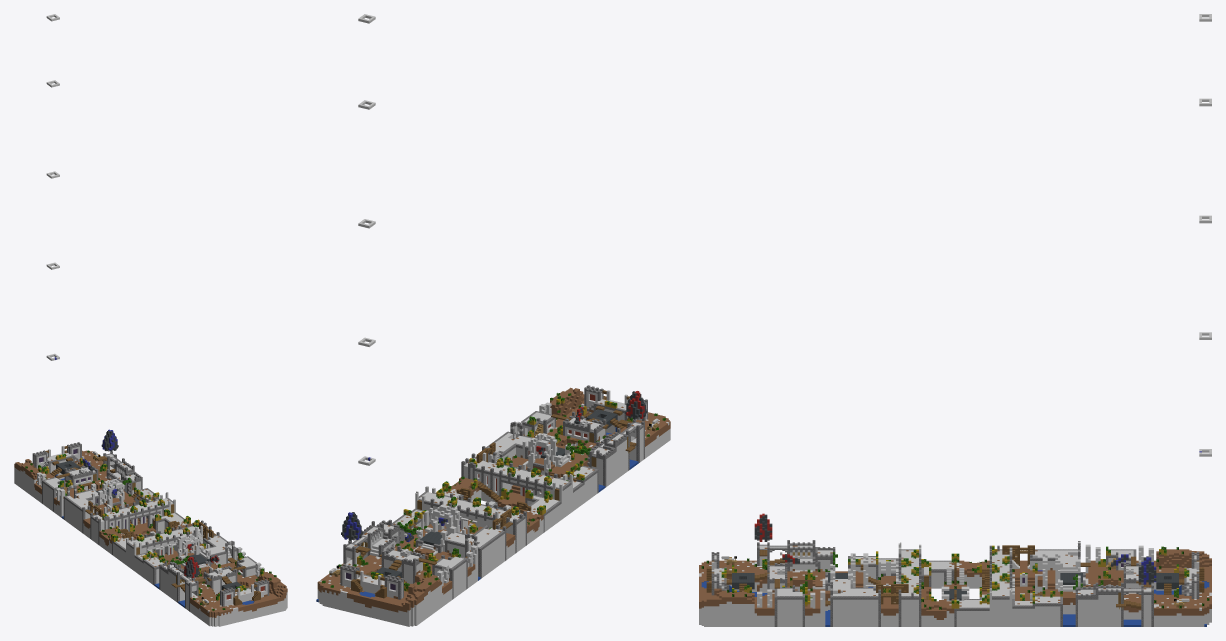
The model's file is minecraft.obj.
The picture shows the model from 3 angles, left to right: view 1: azimuth 30°, elevation 25°; view 2: azimuth 150°, elevation 25°; view 3: azimuth 270°, elevation 25°; orthographic projection. The views are drawn at different scales.
Bounding box in the file's own units: 49 × 256 × 203.
